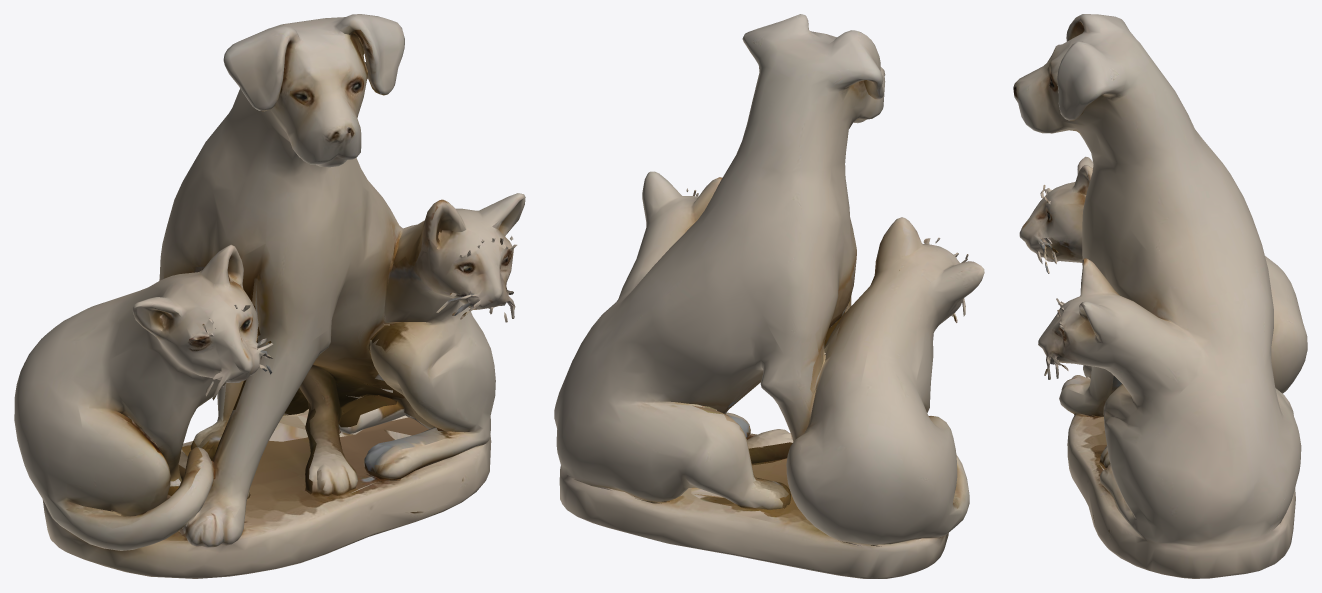
File: dog_with_cat_002.glb
The picture shows the model from 3 angles, left to right: view 1: azimuth 30°, elevation 25°; view 2: azimuth 150°, elevation 25°; view 3: azimuth 270°, elevation 25°; orthographic projection. The views are drawn at different scales.
Visible parts, largest first — view 1: 49c4df2b-f9cc-454d-9aba-447d5e0b980c_texturing.obj; view 2: 49c4df2b-f9cc-454d-9aba-447d5e0b980c_texturing.obj; view 3: 49c4df2b-f9cc-454d-9aba-447d5e0b980c_texturing.obj.
Boxes of the visible parts, left/top/right/bottom form: 49c4df2b-f9cc-454d-9aba-447d5e0b980c_texturing.obj: left=14, top=14, right=525, bottom=578; 49c4df2b-f9cc-454d-9aba-447d5e0b980c_texturing.obj: left=554, top=14, right=984, bottom=578; 49c4df2b-f9cc-454d-9aba-447d5e0b980c_texturing.obj: left=1013, top=14, right=1307, bottom=578.
Size of the model in its own units: 0.8814 by 0.9998 by 0.5828.
1 material, 1 textured.
